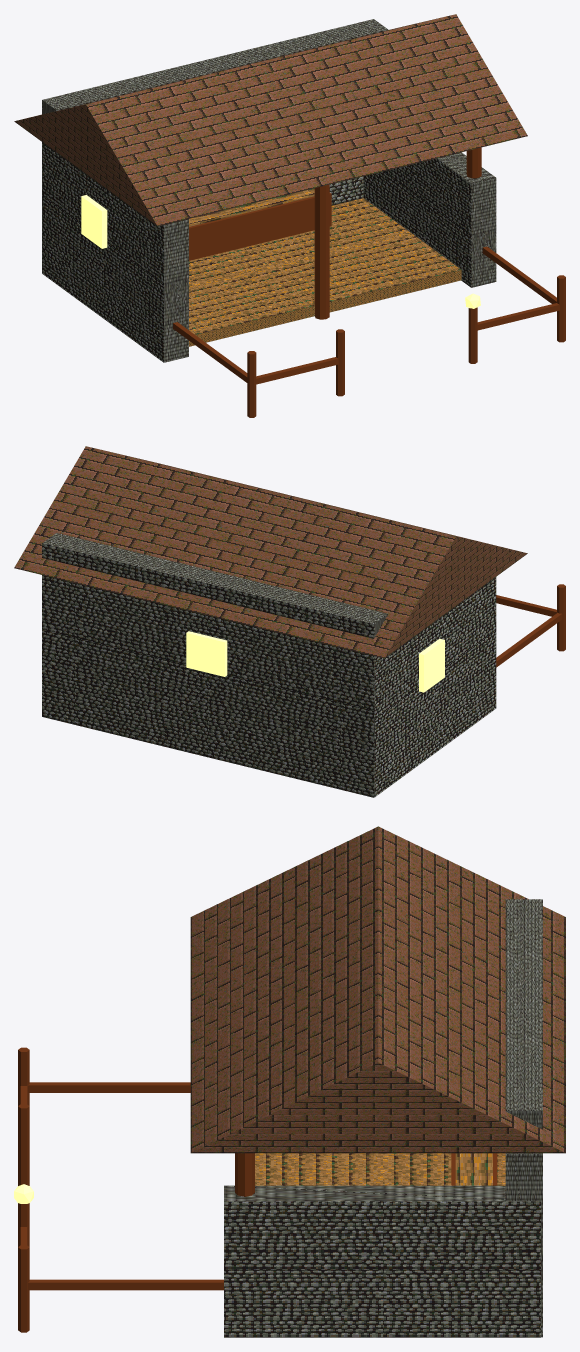
The model's file is aprisco.glb.
3 views of the same model, one above another, from view 1: azimuth 30°, elevation 25°; view 2: azimuth 150°, elevation 25°; view 3: azimuth 270°, elevation 25° (orthographic). The views are drawn at different scales.
Visible parts, largest first — view 1: Aprisco_Techo, Cube.004, Cube.001, Cube.002, Cube, Cube.005, Cylinder.001, Cube.011, Cube.006, Cube.007, Cube.008, Cube.010 (+5 smaller); view 2: Cube, Aprisco_Techo, Cube.001, Cube.012, Cube.011, Cube.007, Cylinder.003, Cube.009; view 3: Aprisco_Techo, Cube.002, Cube, Cube.004, Cube.008, Cube.007, Cube.006, Cylinder.006, Cylinder.004, Cylinder.002.
Part boxes in pixels (x1=…): Aprisco_Techo: x1=14, y1=14, x2=527, y2=226; Cube.004: x1=189, y1=198, x2=461, y2=346; Cube.001: x1=42, y1=142, x2=188, y2=362; Cube.002: x1=363, y1=152, x2=496, y2=287; Cube: x1=42, y1=19, x2=388, y2=273; Cube.005: x1=189, y1=192, x2=331, y2=260; Cylinder.001: x1=314, y1=184, x2=329, y2=319; Cube.011: x1=81, y1=195, x2=107, y2=248; Cube.006: x1=189, y1=188, x2=314, y2=226; Cube.007: x1=173, y1=322, x2=247, y2=382; Cube.008: x1=482, y1=246, x2=556, y2=303; Cube.010: x1=477, y1=303, x2=559, y2=330; Cube: x1=42, y1=533, x2=388, y2=797; Aprisco_Techo: x1=14, y1=446, x2=527, y2=658; Cube.001: x1=374, y1=577, x2=496, y2=796; Cube.012: x1=186, y1=631, x2=227, y2=676; Cube.011: x1=419, y1=638, x2=444, y2=692; Cube.007: x1=496, y1=613, x2=562, y2=667; Cylinder.003: x1=557, y1=584, x2=565, y2=651; Cube.009: x1=496, y1=595, x2=557, y2=616; Aprisco_Techo: x1=190, y1=826, x2=565, y2=1153; Cube.002: x1=224, y1=1185, x2=540, y2=1337; Cube: x1=505, y1=899, x2=542, y2=1337; Cube.004: x1=255, y1=1153, x2=505, y2=1185; Cube.008: x1=28, y1=1279, x2=223, y2=1290; Cube.007: x1=28, y1=1082, x2=190, y2=1092; Cube.006: x1=455, y1=1153, x2=492, y2=1185; Cylinder.006: x1=18, y1=1245, x2=29, y2=1332; Cylinder.004: x1=18, y1=1104, x2=29, y2=1185; Cylinder.002: x1=235, y1=1153, x2=254, y2=1196.
Bounding box in the file's own units: 6.7 × 3.8 × 6.62.
5 materials, 3 textured.
